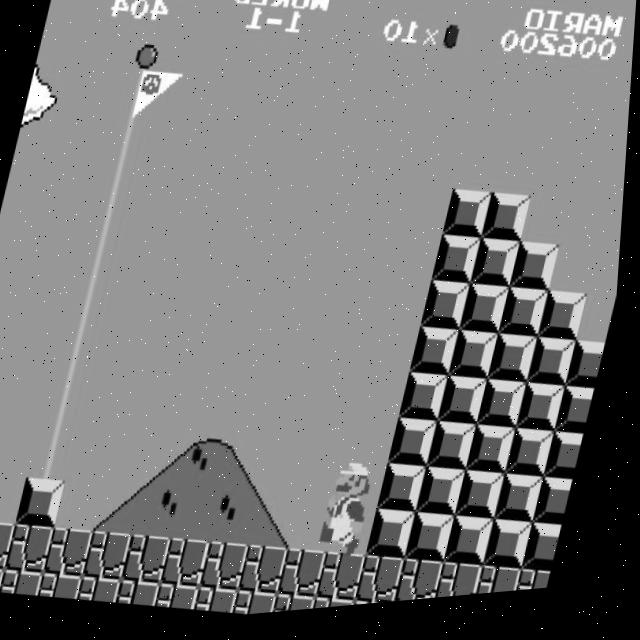17- undestructible_block: (323, 555, 374, 611), (206, 542, 257, 598), (167, 538, 218, 594), (89, 530, 140, 586), (245, 547, 296, 602), (128, 534, 179, 589), (50, 526, 101, 581), (11, 522, 62, 577), (285, 551, 335, 606), (362, 559, 413, 612), (401, 563, 452, 610), (441, 567, 491, 607), (480, 572, 530, 604), (201, 588, 247, 621), (162, 583, 208, 616), (123, 579, 169, 612), (84, 575, 130, 608), (45, 571, 91, 604), (6, 567, 51, 600), (240, 592, 286, 621), (0, 518, 23, 573), (279, 596, 324, 618), (519, 577, 559, 601), (319, 600, 364, 615), (0, 562, 12, 595)
4- fire_mario: (323, 463, 388, 567)
7- goal_pole: (83, 202, 134, 258), (114, 66, 165, 121), (73, 248, 124, 303), (32, 431, 83, 486), (104, 112, 155, 166), (63, 294, 114, 348), (42, 385, 93, 439), (125, 20, 175, 75), (94, 157, 144, 212), (53, 339, 103, 394)
9- hard_block: (541, 298, 592, 354), (461, 476, 512, 532), (473, 244, 524, 300), (383, 468, 434, 524), (500, 481, 551, 536), (502, 294, 553, 349), (471, 431, 522, 486), (451, 522, 502, 577), (484, 199, 535, 254), (463, 290, 514, 345), (442, 381, 493, 436), (422, 472, 473, 527), (412, 518, 463, 573), (434, 240, 485, 295), (424, 286, 475, 341), (404, 377, 455, 432), (21, 476, 72, 531), (521, 389, 571, 445), (482, 385, 532, 441), (373, 513, 423, 569), (531, 344, 582, 398), (510, 436, 561, 490), (492, 340, 543, 394), (414, 332, 465, 386), (393, 423, 444, 477), (490, 526, 540, 581), (513, 249, 563, 304), (453, 336, 503, 390), (433, 427, 483, 481), (445, 195, 495, 249), (560, 394, 601, 448), (539, 485, 580, 539), (550, 440, 590, 493), (529, 531, 569, 584), (571, 349, 610, 401)
